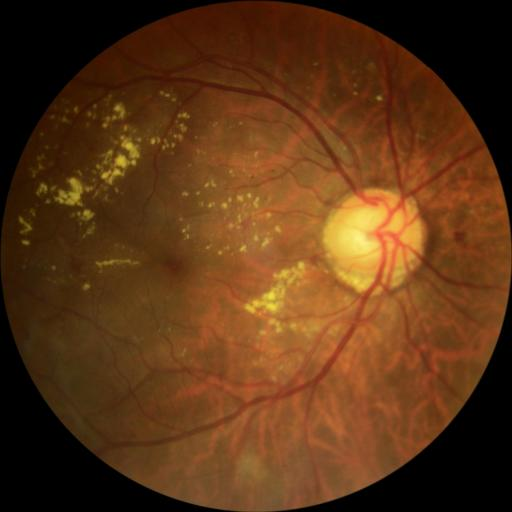Optic Cup: (348, 221, 393, 259)
Optic Disc: (325, 188, 426, 275)
